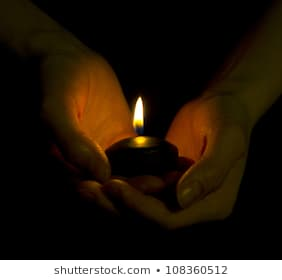Fire: (133, 97, 147, 131)
